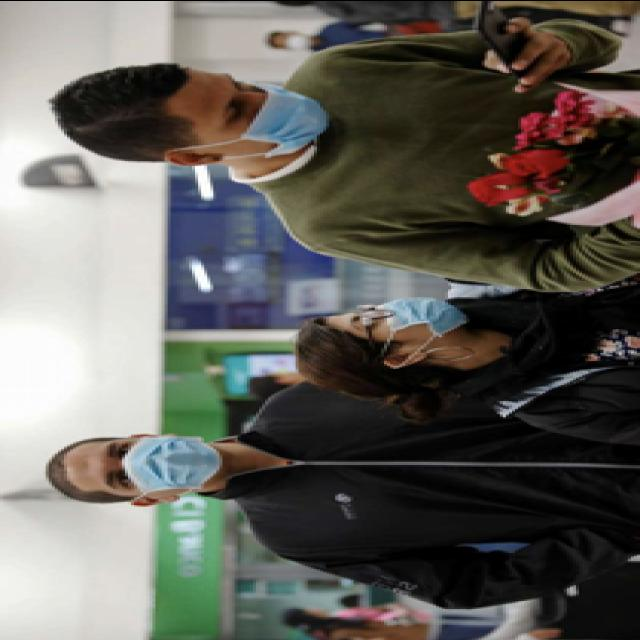with_mask: (208, 70, 342, 152), (94, 432, 226, 496), (342, 294, 469, 354), (271, 30, 317, 46)
